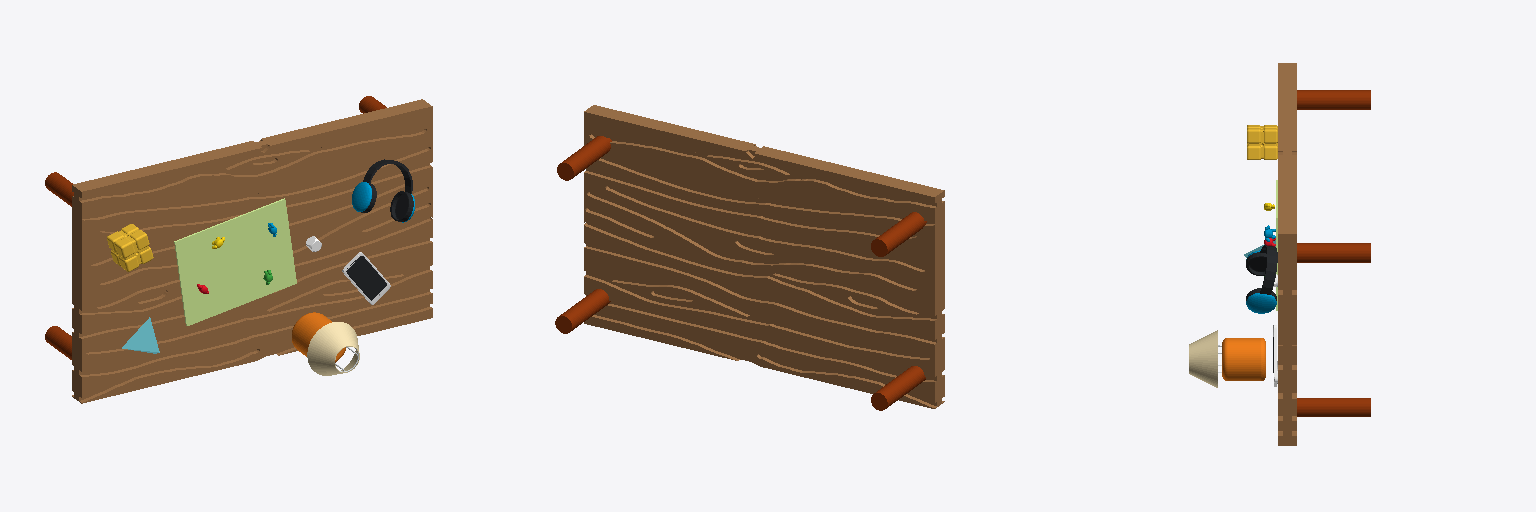
The model's file is tinker.obj.
3 renders of one model, left to right at view 1: azimuth 30°, elevation 25°; view 2: azimuth 150°, elevation 25°; view 3: azimuth 270°, elevation 25°, orthographic.
Parts seen in each view (by area): view 1: obj_0; view 2: obj_0; view 3: obj_0.
Part boxes in pixels (bbox=[...]): obj_0: bbox=[45, 96, 432, 403]; obj_0: bbox=[555, 105, 944, 410]; obj_0: bbox=[1189, 63, 1370, 445].
Bounding box in the file's own units: 104 × 61 × 46.88.